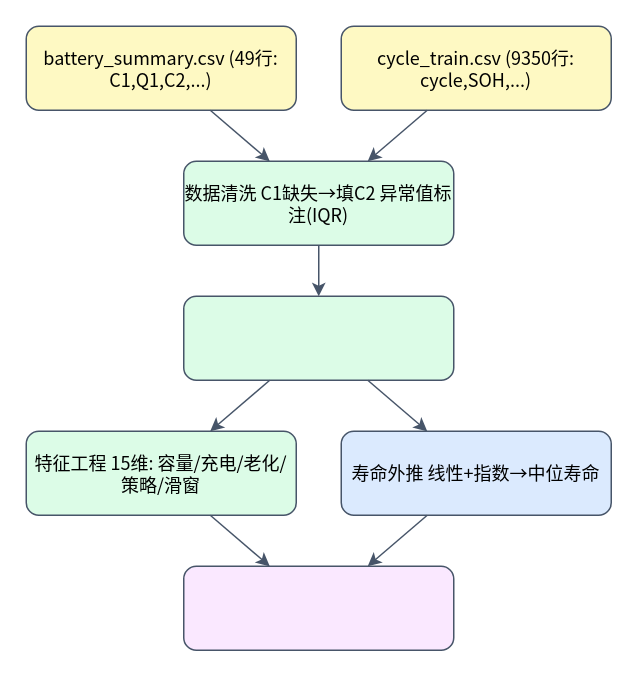
Image size: 638x677. Some labels were removed from this diagram. Here are the shapes that lost their labels. From the top down, the centre of each, then its label:
At (x=318, y=337): "policy解析 (C1,Q1,C2统一)".
At (x=318, y=607): "整理表 p1_summary.csv 特征矩阵 p2_features.csv".
